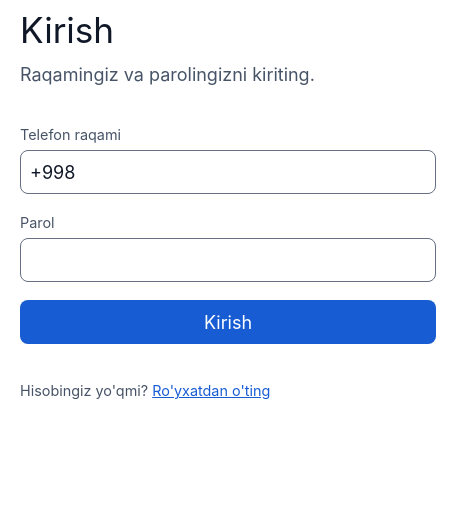
Scenario: a rejected sign-in (FR-2.2) › says one thing, about the form and not about a field
In the field labelled "Telefon raqami": (228, 172) [20,150,436,194], type "901234567"
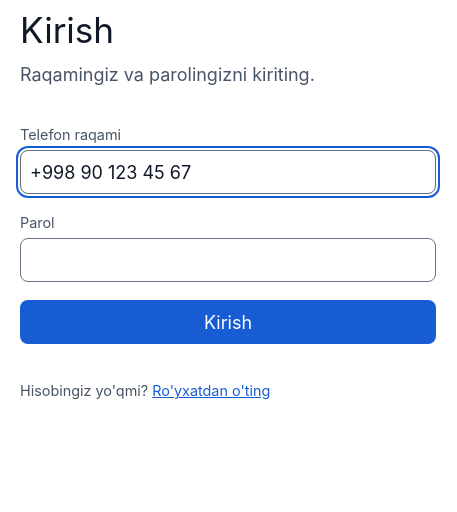
In the password field labelled "Parol": (228, 260) [20,238,436,282], type "orbit-walnut-lantern-quiet"
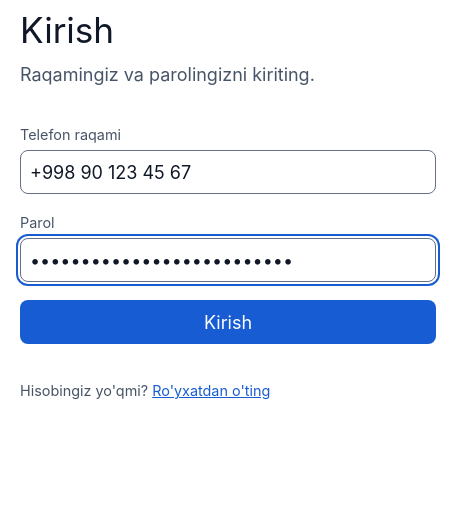
Click the button "Kirish": (228, 322) [20,300,436,344]
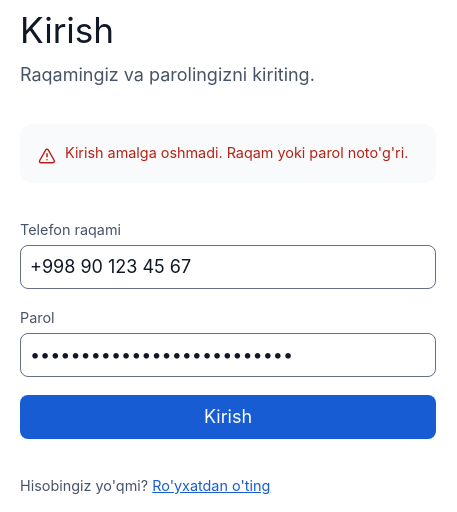
Result: the message shows "Raqam yoki parol" at [65,144,408,161]
